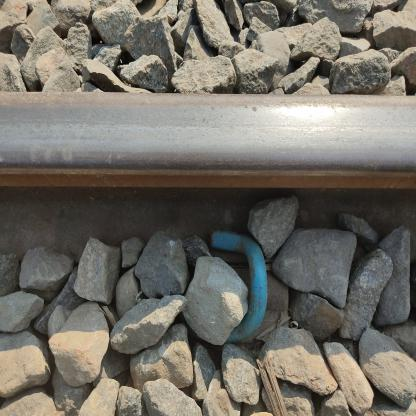Non Defective: (188, 197, 318, 355)
